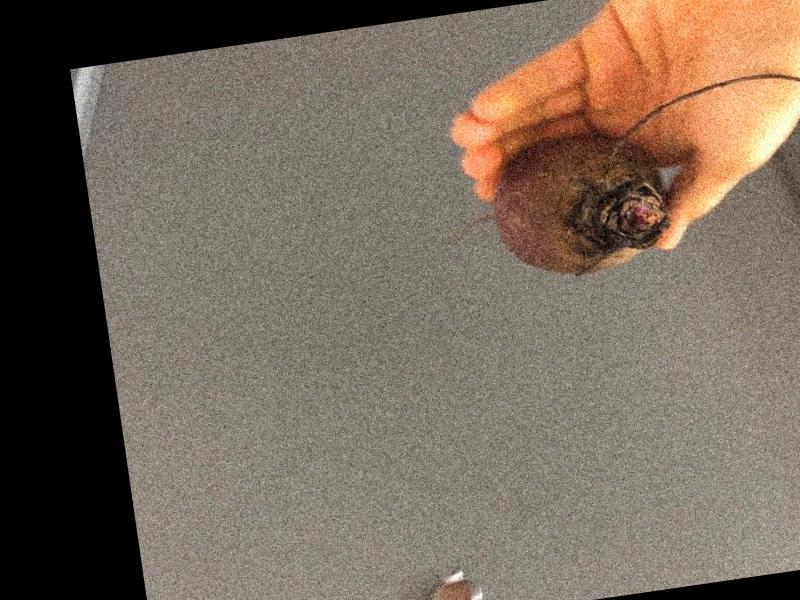Beet: (435, 60, 800, 290)
